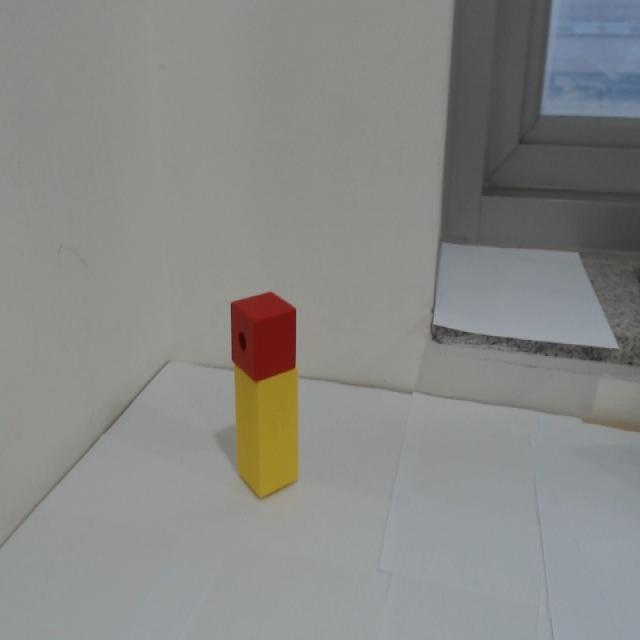cube: (228, 288, 299, 385)
